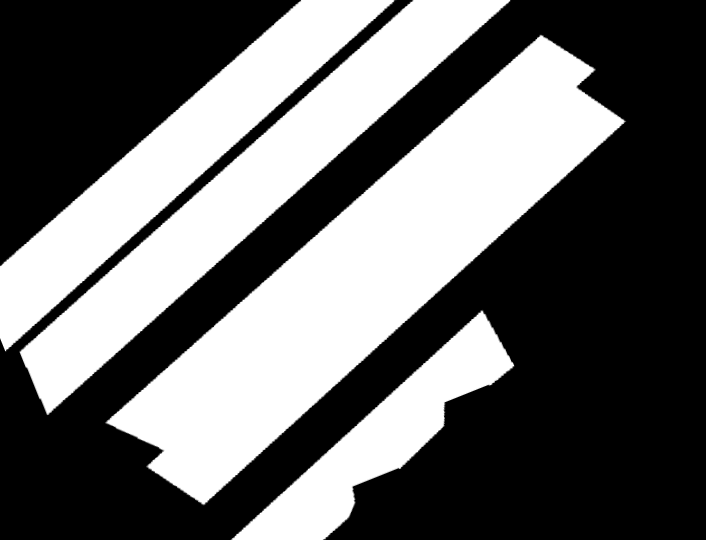parkingspot: (106, 35, 625, 505), (20, 0, 510, 415), (0, 0, 394, 351), (231, 311, 514, 540)
